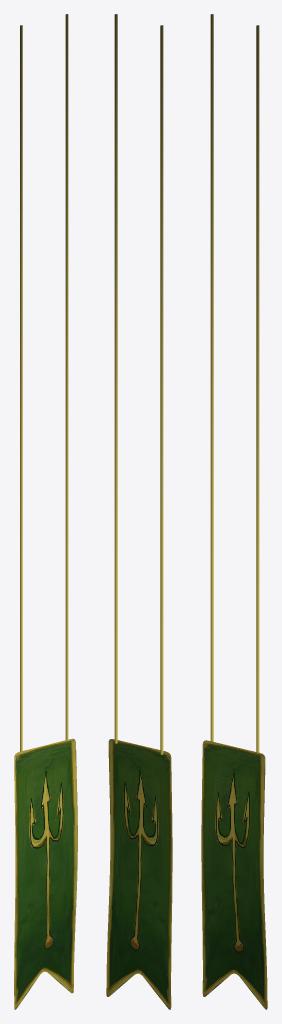
The model's file is SM_PD_Banner_01.fbx.
3 views of the same model, side by side, from view 1: azimuth 30°, elevation 25°; view 2: azimuth 150°, elevation 25°; view 3: azimuth 330°, elevation 25° (orthographic).
Visible parts, largest first — view 1: SM_PD_Banner_01; view 2: SM_PD_Banner_01; view 3: SM_PD_Banner_01.
Boxes of the visible parts, x1=… form: SM_PD_Banner_01: x1=14, y1=14, x2=77, y2=1009; SM_PD_Banner_01: x1=106, y1=14, x2=172, y2=1009; SM_PD_Banner_01: x1=201, y1=14, x2=267, y2=1009.
Size of the model in its own units: 265 by 3992 by 29.8.
